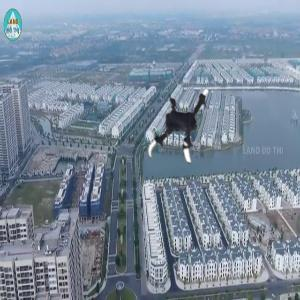drone: (139, 84, 233, 178)
